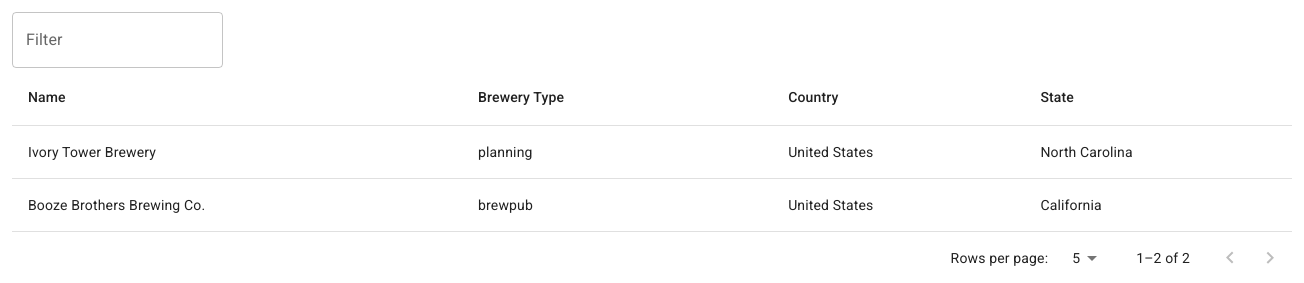
Test: BeerListTable component › filters beer list based on input
Note: Enter filter text in the input field
In the field labelled "Filter": x=118, y=40 [12,12,223,68], type "Ivory Tower Brewery"
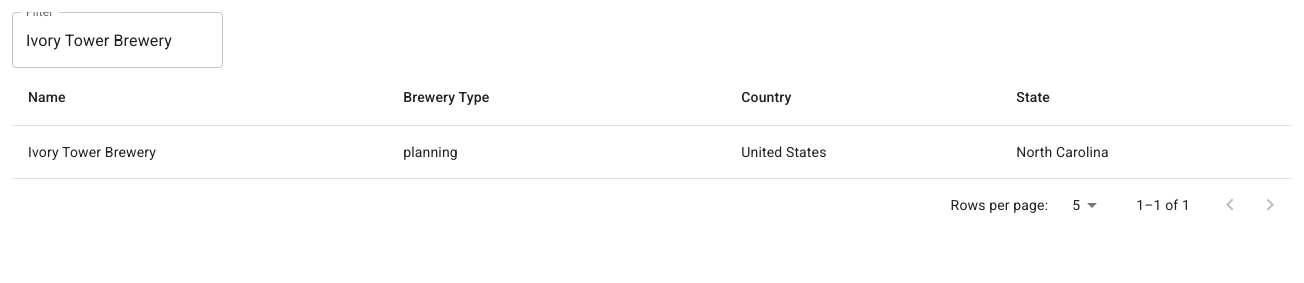
Expected: the link "Ivory Tower Brewery" is shown, [28,144,156,160]
Expected: the link "Booze Brothers Brewing Co." is gone
